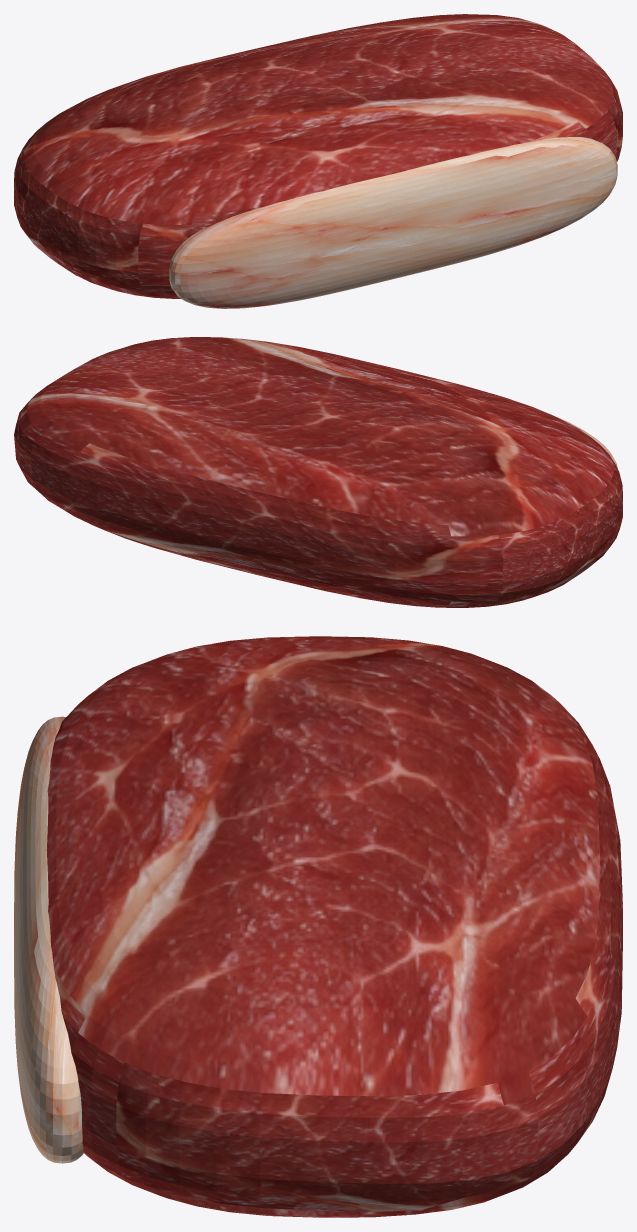
File: beef.obj
3 renders of one model, top to bottom at view 1: azimuth 30°, elevation 25°; view 2: azimuth 150°, elevation 25°; view 3: azimuth 270°, elevation 25°, orthographic. The views are drawn at different scales.
Visible parts, largest first — view 1: steak, fat_edge; view 2: steak; view 3: steak, fat_edge.
Boxes of the visible parts, x1,y1,x2,y2 form: steak: (14, 14, 622, 298); fat_edge: (169, 137, 617, 308); steak: (14, 337, 622, 607); steak: (46, 636, 622, 1217); fat_edge: (14, 716, 83, 1163).
Bounding box in the file's own units: 116 × 30.81 × 63.89.
2 materials, 2 textured.
